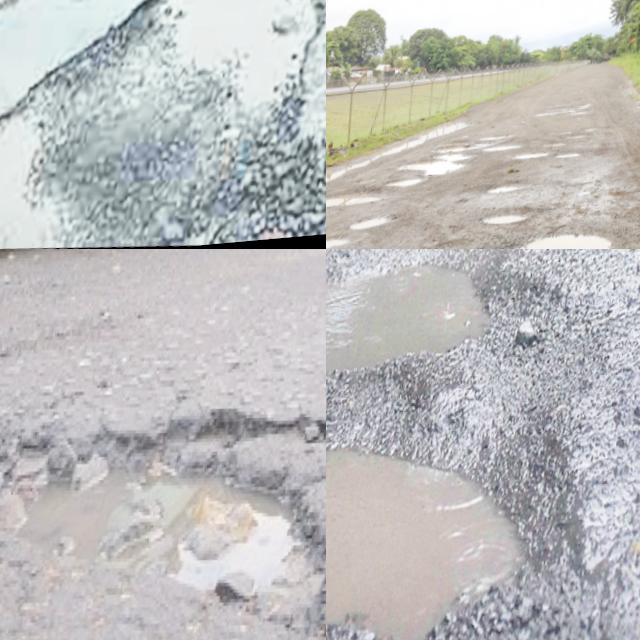Potholes: (0, 317, 326, 640), (326, 364, 640, 640), (0, 0, 326, 249), (326, 249, 601, 399), (485, 92, 606, 185), (390, 128, 506, 217), (326, 167, 419, 249), (501, 198, 640, 249), (466, 192, 581, 249), (371, 207, 467, 249)
